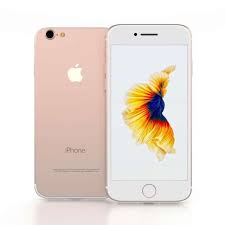iphone: (103, 19, 195, 203), (33, 24, 103, 200)
iphone7: (104, 19, 196, 203), (34, 25, 107, 200)
